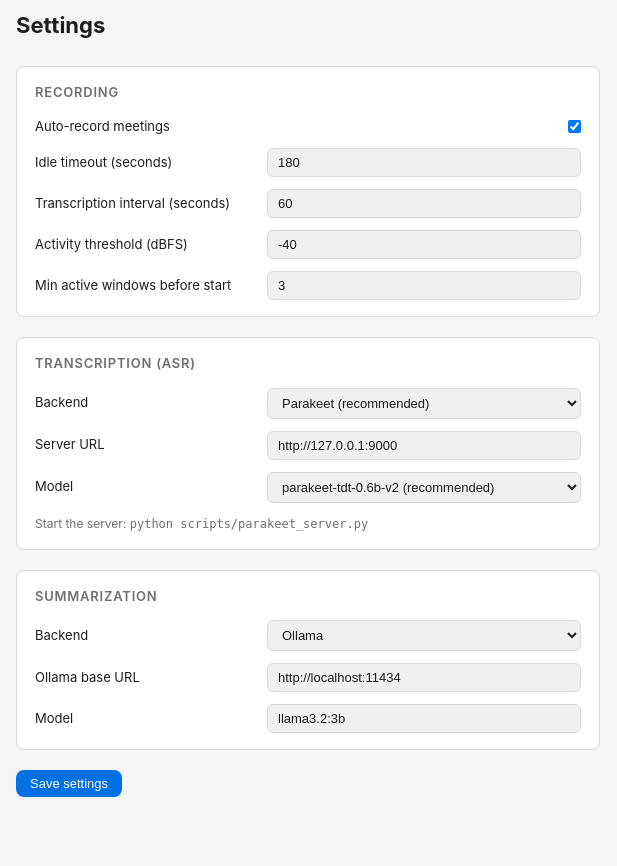
it: SettingsPanel › shows success message after save
Click the button "Save settings" at (69, 784), box [16,770,122,797]
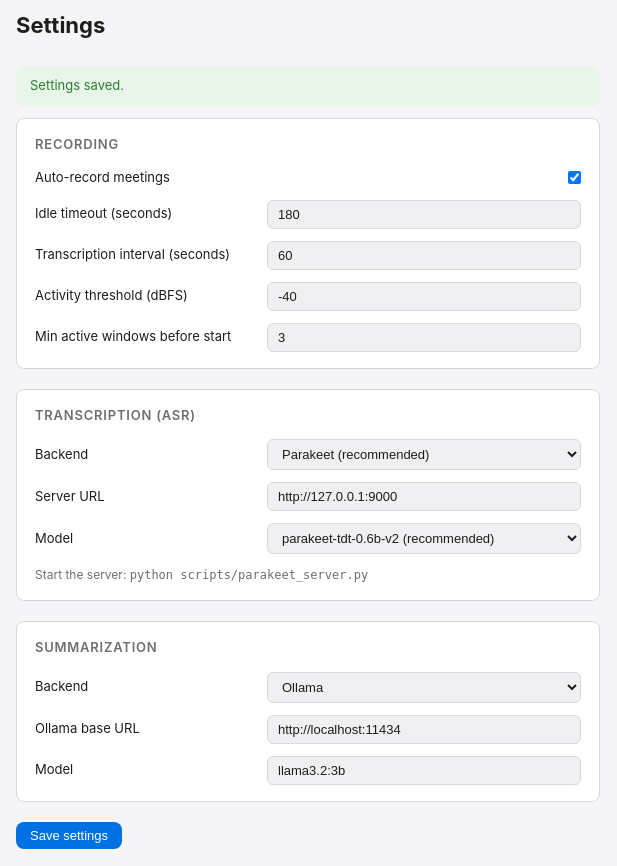
Result: the text "Settings saved." is shown at [16,66,600,106]
